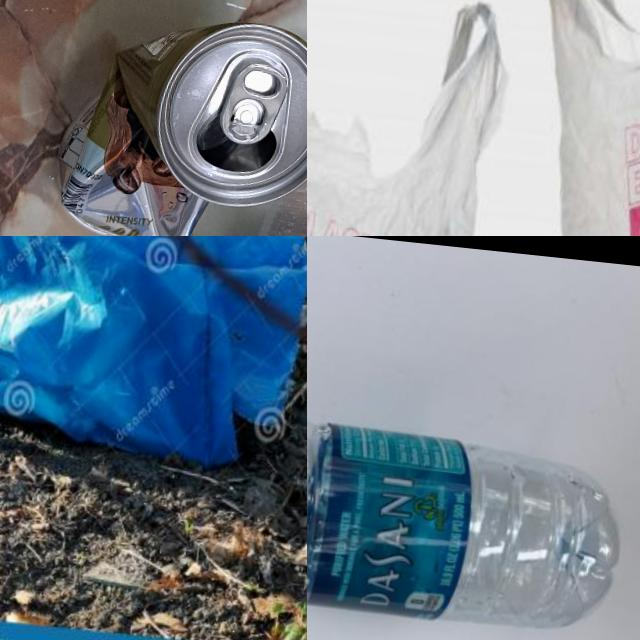aba de lata: (220, 58, 288, 149)
garrafa plástica: (307, 393, 633, 640), (241, 116, 307, 236)
lata: (49, 4, 307, 236)
sacola plástica: (0, 236, 307, 492), (307, 0, 530, 236), (494, 0, 640, 236)
